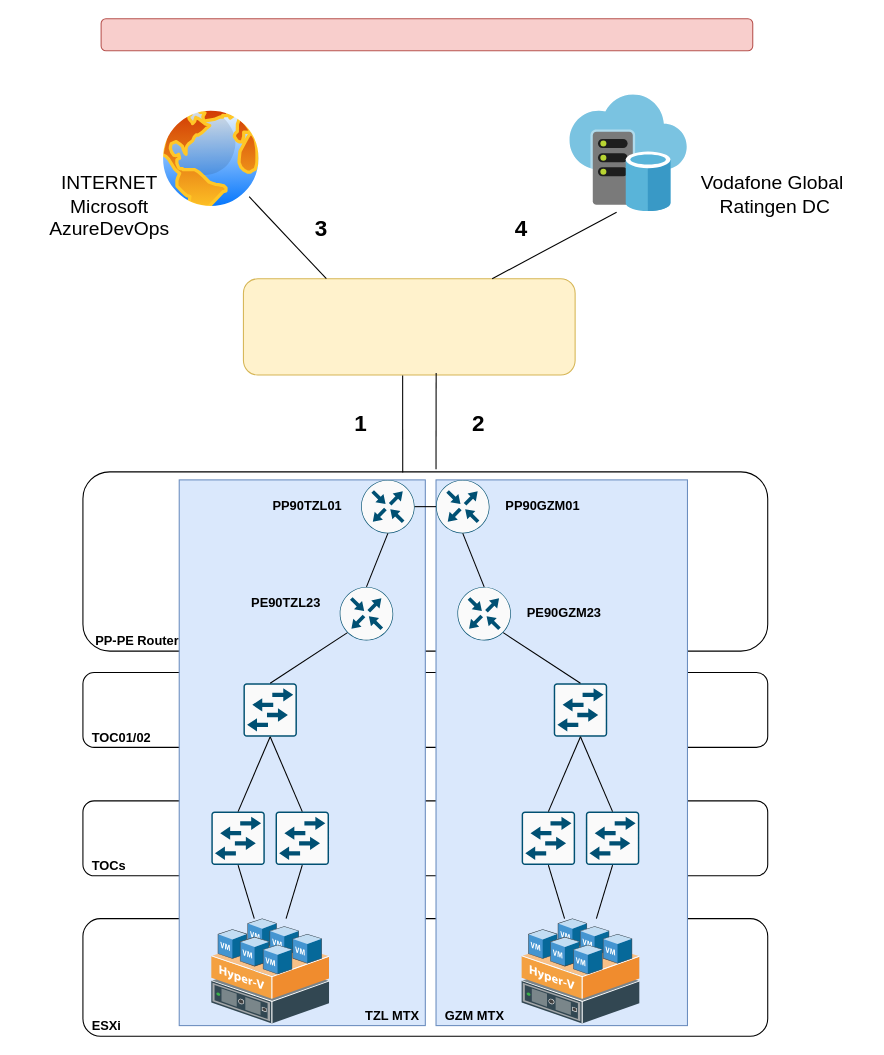
This 884x1055 diagram has some shape labels left out. Here are the shapes that lost their labels. From the top down, the centre of each, then its label:
the point at 426,34: Local NEL Connectivitiy Diagram
the point at 408,326: FW Connectivitiy
